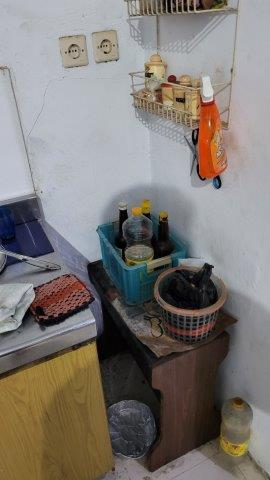botolkaca: (108, 196, 175, 263)
